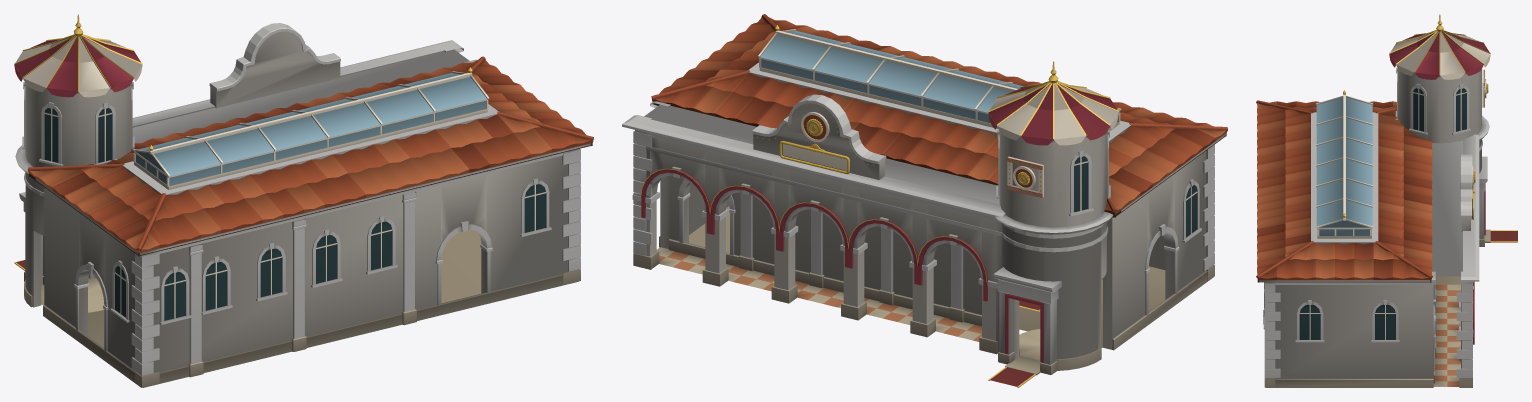
The model's file is pav_kursaal.glb.
3 renders of one model, left to right at view 1: azimuth 30°, elevation 25°; view 2: azimuth 150°, elevation 25°; view 3: azimuth 270°, elevation 25°, orthographic. The views are drawn at different scales.
Parts seen in each view (by area): view 1: static_kursaal; view 2: static_kursaal; view 3: static_kursaal.
Boxes of the visible parts, x1,y1,x2,y2 form: static_kursaal: [14, 14, 593, 387]; static_kursaal: [622, 14, 1227, 387]; static_kursaal: [1256, 14, 1517, 387].
Size of the model in its own units: 19.96 by 11.73 by 12.5.
